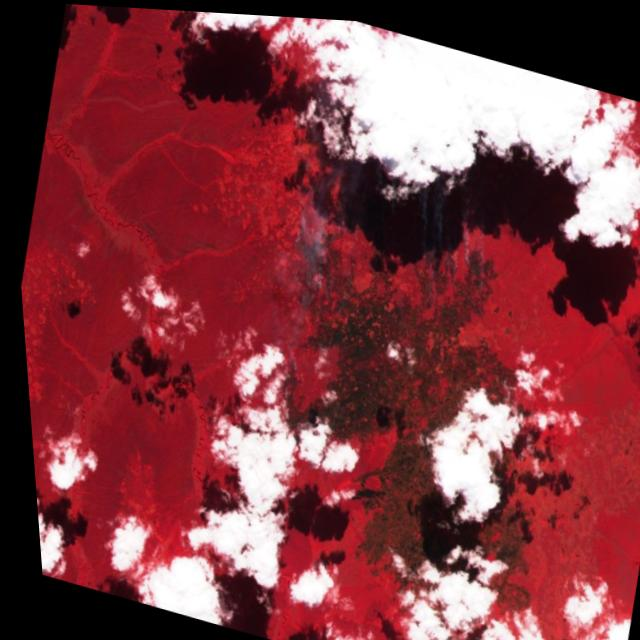fire: (275, 206, 340, 294), (449, 226, 492, 292), (406, 216, 448, 268)
